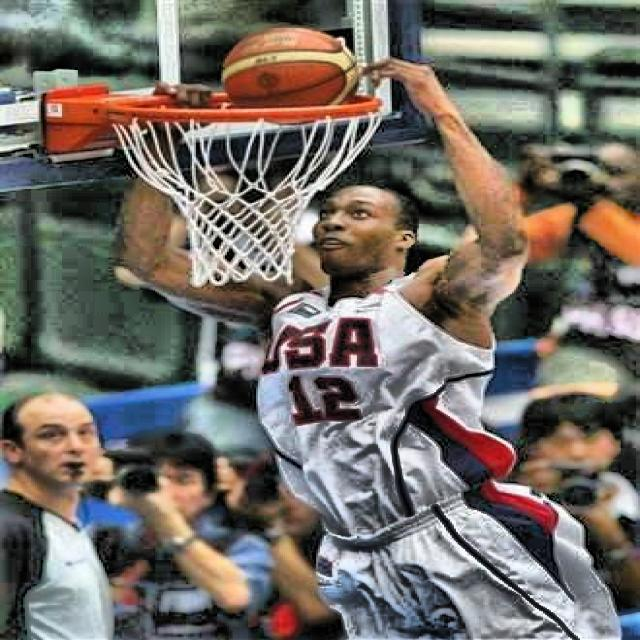board: (220, 27, 362, 109)
rim: (109, 98, 374, 286)
